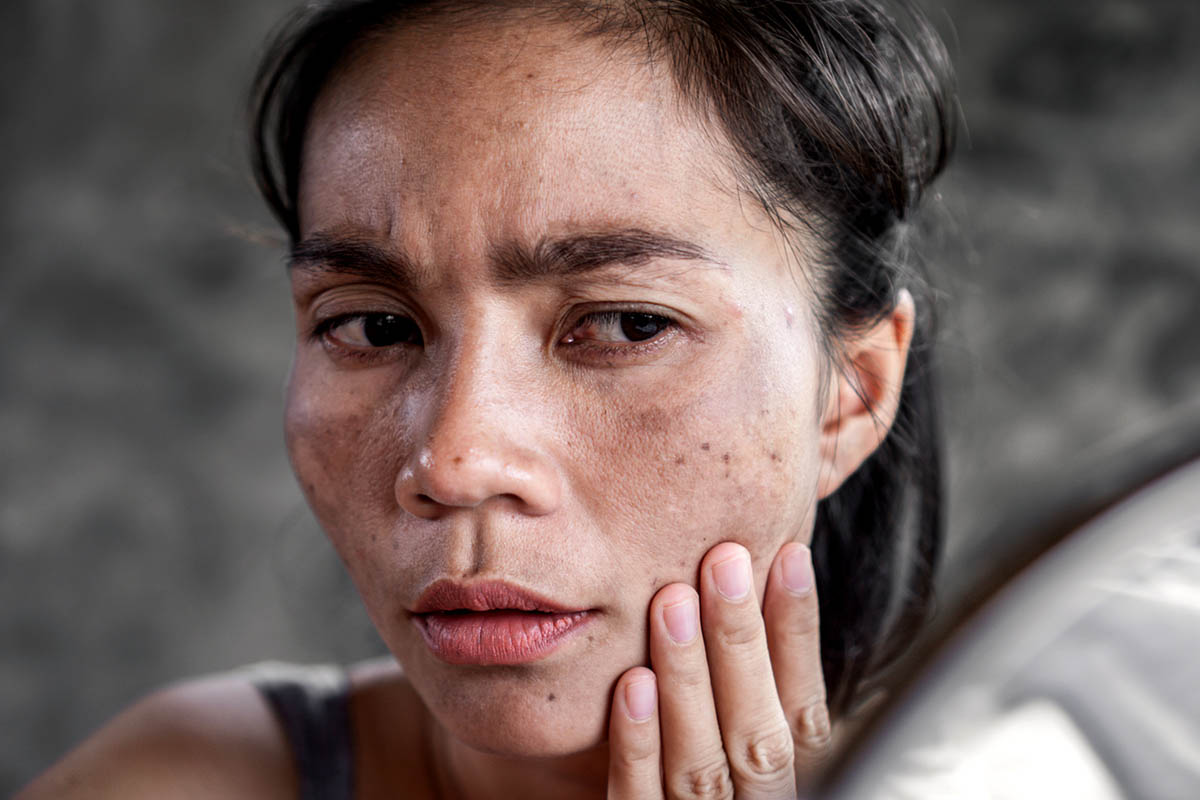DARK_SPOTS: (637, 407, 675, 439), (770, 450, 785, 467), (724, 452, 731, 476), (675, 454, 688, 466), (701, 440, 712, 453), (453, 455, 463, 466), (547, 691, 557, 702)
